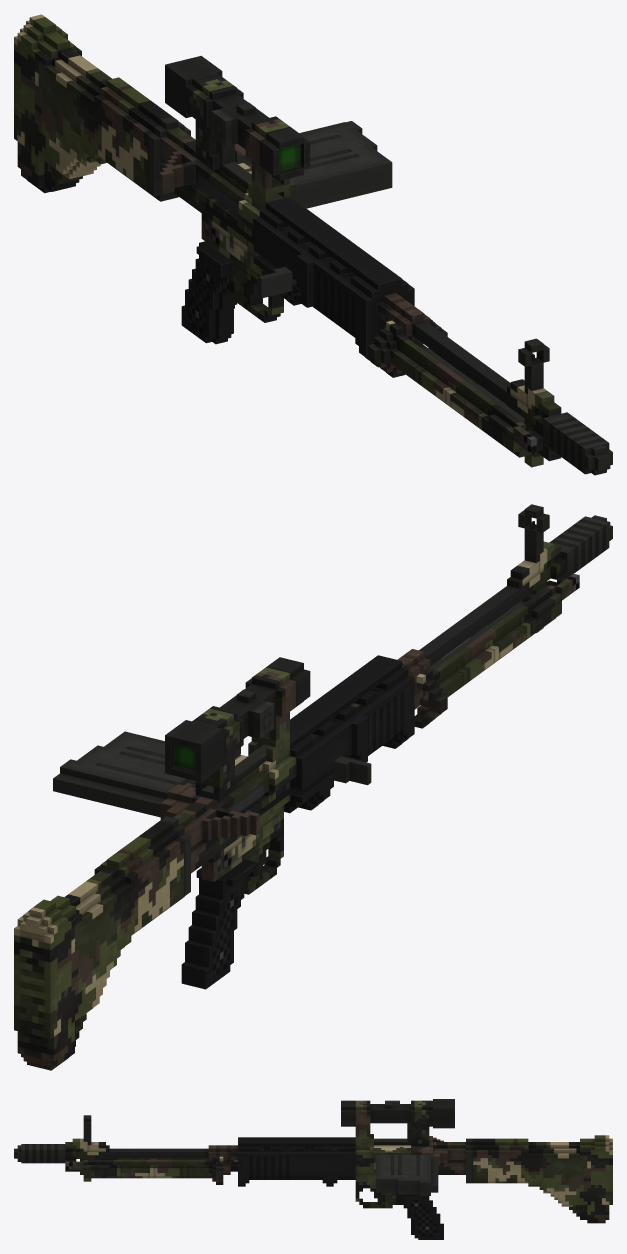
File: RD_FG42_MILITARY1945.glb
3 renders of one model, top to bottom at view 1: azimuth 30°, elevation 25°; view 2: azimuth 150°, elevation 25°; view 3: azimuth 270°, elevation 25°, orthographic. The views are drawn at different scales.
Visible parts, largest first — view 1: FG42, FG42_SCOPE2, FG42_DIPOD_LEG1, FG42_CLIP, FG42_BOLT; view 2: FG42, FG42_SCOPE2, FG42_CLIP, FG42_DIPOD_LEG1, FG42_BOLT; view 3: FG42, FG42_SCOPE2, FG42_DIPOD_LEG2, FG42_CLIP, FG42_DIPOD_LEG1.
Part boxes in pixels (x1,y1,x2,y2): FG42: (14, 14, 612, 475); FG42_SCOPE2: (165, 55, 310, 208); FG42_DIPOD_LEG1: (367, 320, 536, 457); FG42_CLIP: (290, 121, 392, 208); FG42_BOLT: (258, 267, 296, 298); FG42: (14, 504, 612, 1070); FG42_SCOPE2: (165, 657, 310, 800); FG42_CLIP: (53, 731, 185, 817); FG42_DIPOD_LEG1: (414, 573, 579, 728); FG42_BOLT: (327, 756, 371, 785); FG42: (14, 1115, 612, 1239); FG42_SCOPE2: (341, 1099, 454, 1146); FG42_DIPOD_LEG2: (65, 1156, 223, 1184); FG42_CLIP: (376, 1154, 438, 1195); FG42_DIPOD_LEG1: (76, 1158, 208, 1159).
Bounding box in the file's own units: 0.3248 × 0.3937 × 1.6.
1 material, 1 textured.
